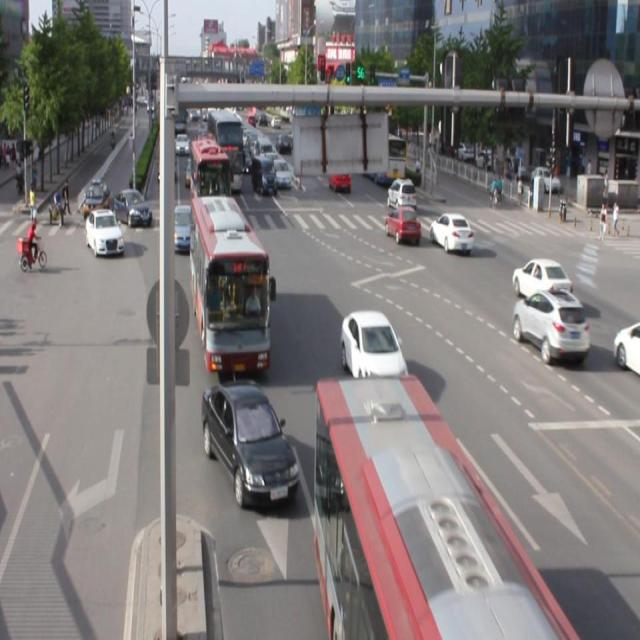car: (202, 379, 300, 508), (512, 287, 590, 366), (341, 308, 406, 392), (511, 257, 572, 308), (428, 212, 473, 254), (383, 205, 420, 244)
van: (314, 375, 578, 640), (192, 198, 270, 371)
